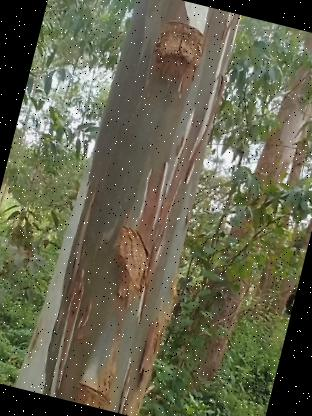tree: (10, 0, 254, 416), (164, 19, 312, 412)
